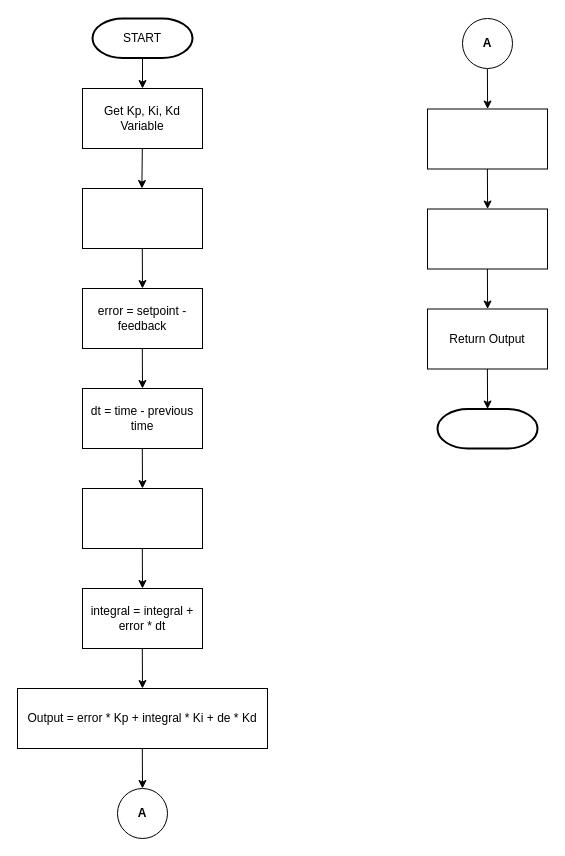
The diagram is 565 pixels wide and 856 high, and some of its shapes have lost their labels. Each missing label, with the box of its shape:
de = error - last error / dt: (82, 488, 202, 548)
END: (436, 408, 538, 449)
last error = error: (426, 208, 548, 269)
previous time = time: (426, 108, 548, 169)
Receive setpoint, feedback Variable: (82, 188, 202, 248)
